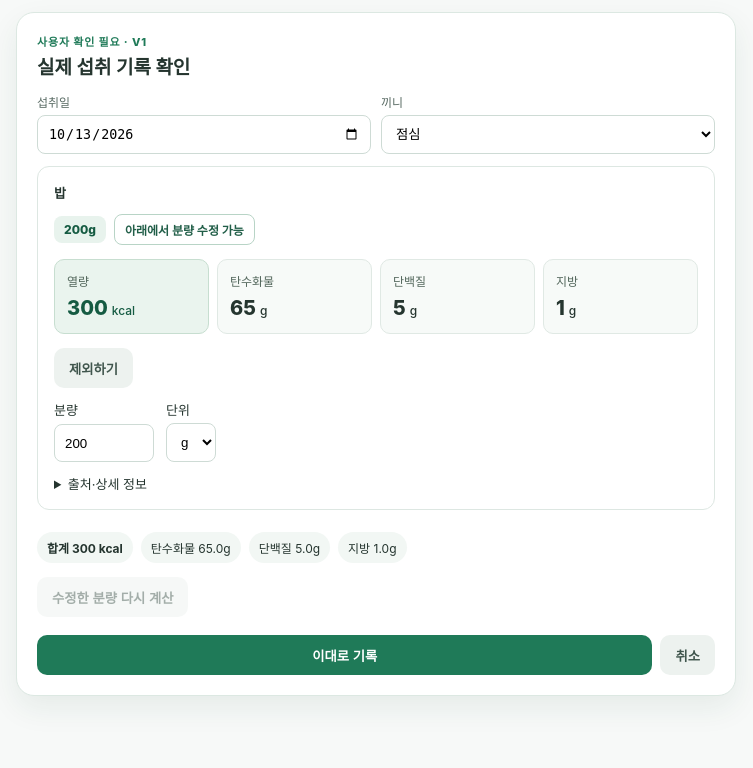
Test: excluding all foods blocks saving and recalculation; undo restores the proposal
Click the button with aria-label "1번 음식 제외하기".
click(94, 368)  # box left=54, top=348, right=133, bottom=388
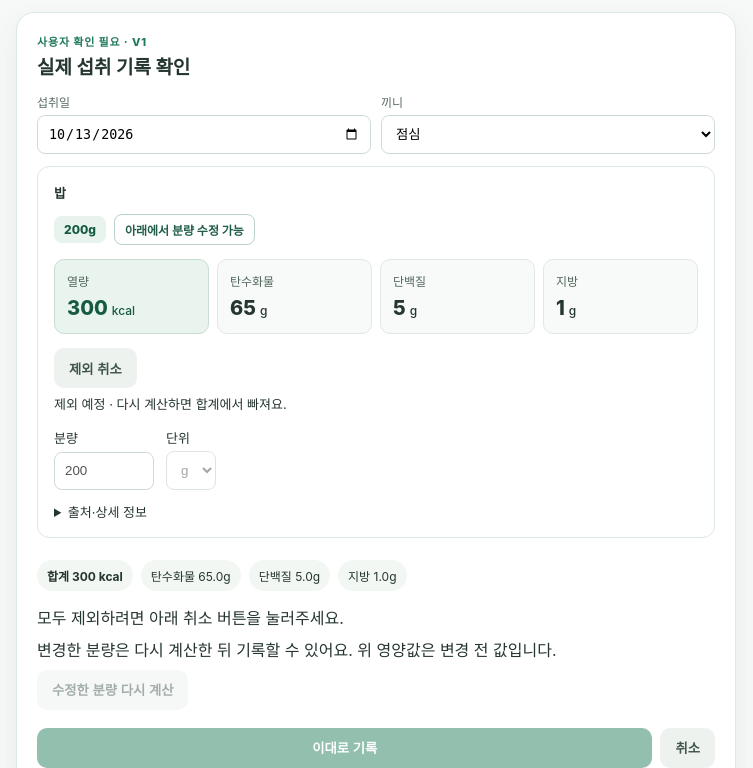
Expected: the button "수정한 분량 다시 계산" is disabled, left=37, top=670, right=188, bottom=710
Result: the button "이대로 기록" is disabled at left=37, top=728, right=652, bottom=767
Result: the text "모두 제외하려면 아래 취소 버튼을 눌러주세요." is shown at left=37, top=608, right=344, bottom=628
Click the button with aria-label "1번 음식 제외 취소".
click(95, 368)  # box left=54, top=348, right=137, bottom=388
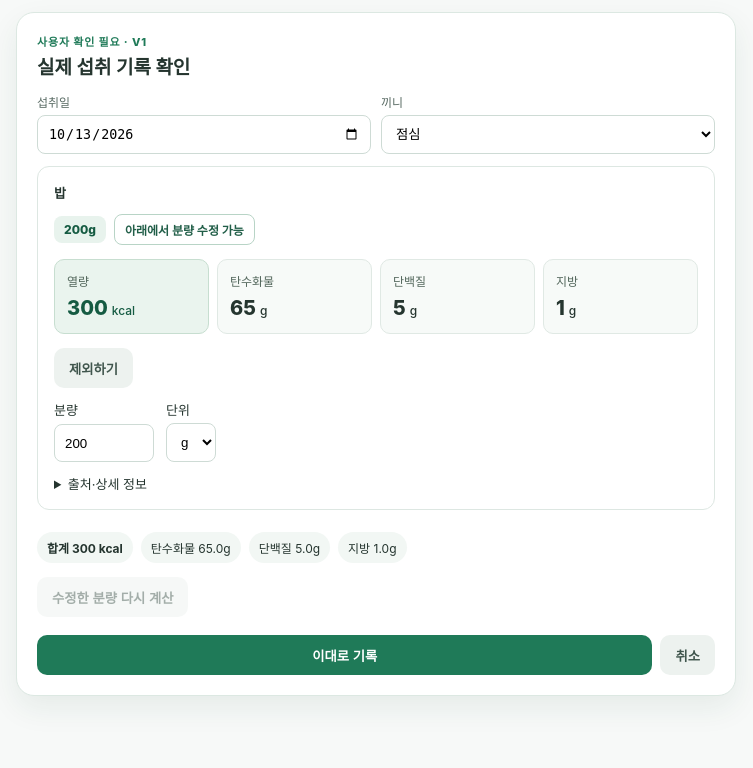
Result: the button "이대로 기록" is enabled at left=37, top=635, right=652, bottom=675
